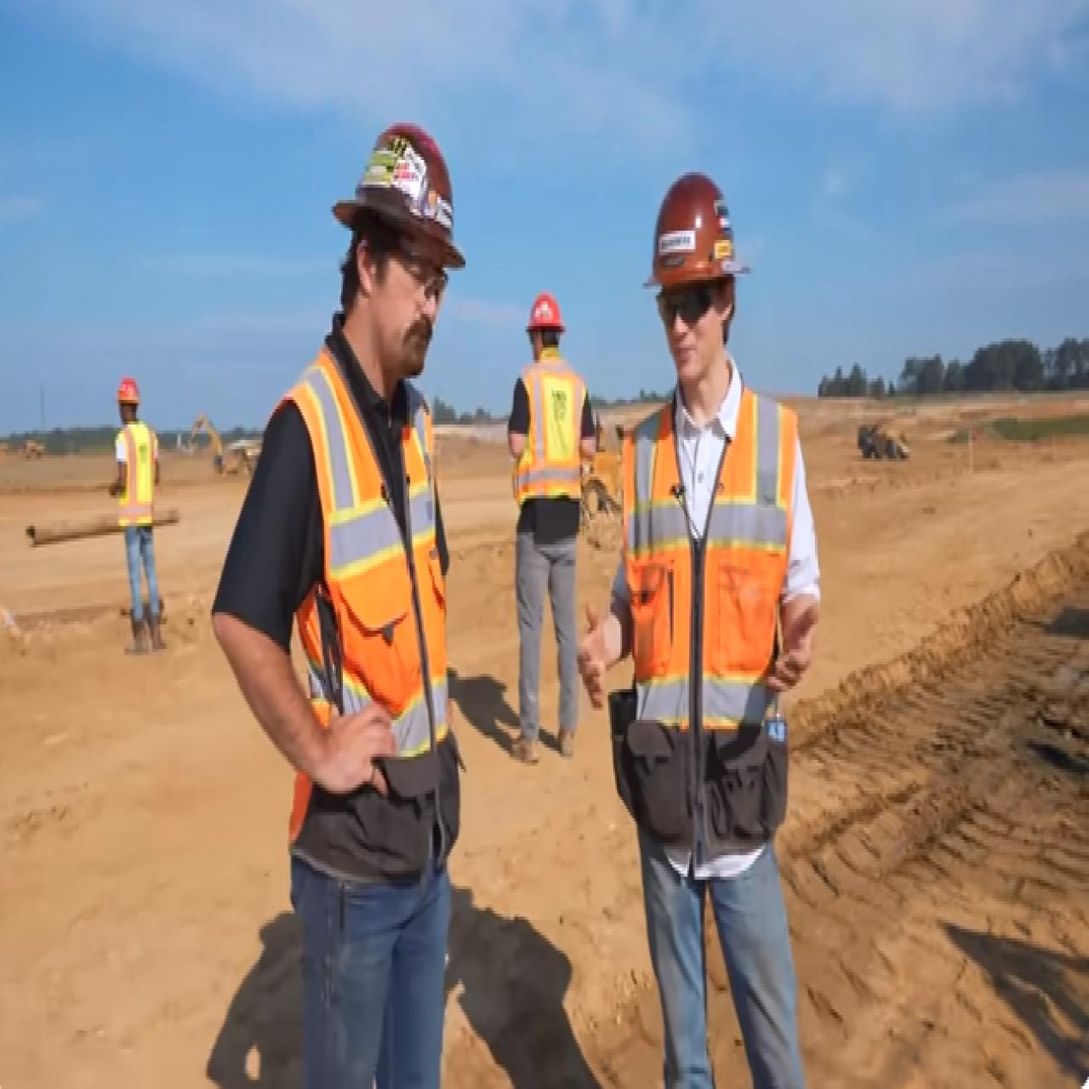Person: (209, 107, 474, 1089), (589, 165, 821, 1089), (505, 268, 589, 772), (88, 372, 181, 661)
Safety_Vest: (272, 343, 463, 852), (620, 390, 795, 827), (515, 353, 585, 508), (114, 417, 157, 535)
